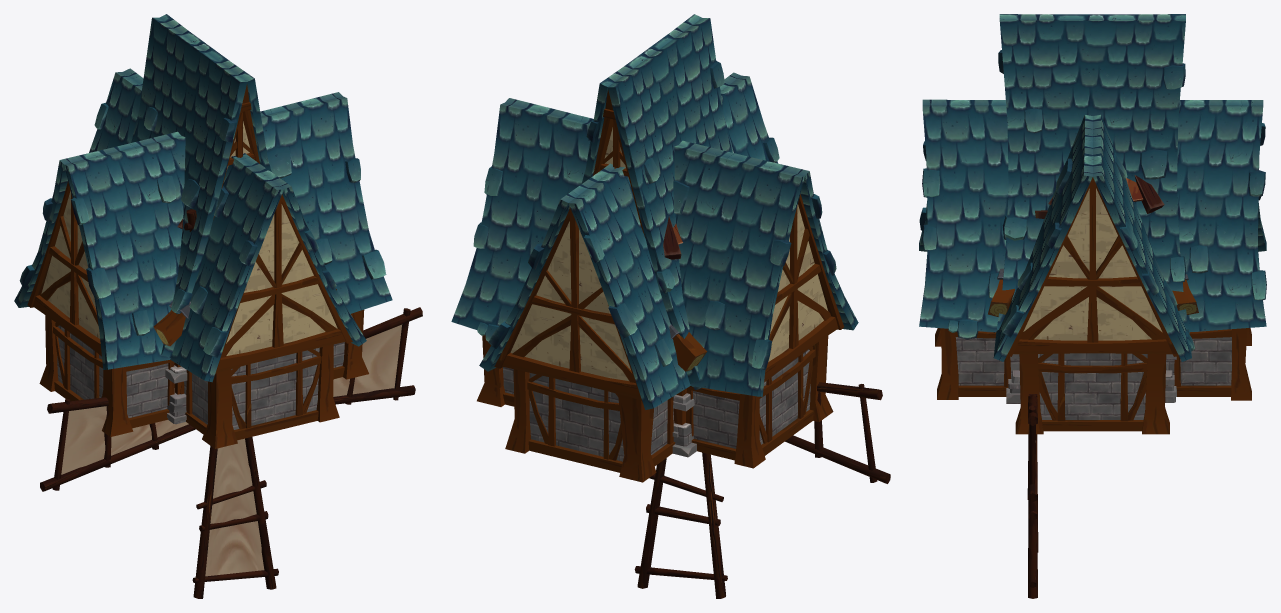
Rendered from nuu_town.glb.
3 renders of one model, left to right at view 1: azimuth 30°, elevation 25°; view 2: azimuth 150°, elevation 25°; view 3: azimuth 270°, elevation 25°, orthographic. The views are drawn at different scales.
Parts seen in each view (by area): view 1: SM_BLD_body_v07_01, SM_BLD_windmill_sail, SM_BLD_body_v06_01, SM_BLD_body_v05_01, SM_BLD_body_v01_01, SM_BLD_body_v04_01, SM_BLD_body_v02_01, SM_BLD_base_v01_01; view 2: SM_BLD_body_v07_01, SM_BLD_body_v05_01, SM_BLD_body_v04_01, SM_BLD_body_v01_01, SM_BLD_windmill_sail, SM_BLD_body_v06_01, SM_BLD_body_v02_01, SM_BLD_base_v01_01, SM_PROP_watchtower_wood_01; view 3: SM_BLD_body_v07_01, SM_BLD_body_v01_01, SM_BLD_body_v05_01, SM_BLD_body_v06_01, SM_BLD_body_v04_01, SM_BLD_windmill_sail, SM_BLD_body_v02_01, SM_PROP_watchtower_wood_01, SM_BLD_base_v01_01.
Part boxes in pixels (left/top/right/bottom): SM_BLD_body_v07_01: left=14, top=72, right=392, bottom=448; SM_BLD_windmill_sail: left=40, top=209, right=422, bottom=598; SM_BLD_body_v06_01: left=184, top=104, right=391, bottom=448; SM_BLD_body_v05_01: left=93, top=68, right=386, bottom=448; SM_BLD_body_v01_01: left=131, top=14, right=271, bottom=394; SM_BLD_body_v04_01: left=94, top=69, right=360, bottom=447; SM_BLD_body_v02_01: left=153, top=289, right=336, bottom=394; SM_BLD_base_v01_01: left=167, top=393, right=186, bottom=424; SM_BLD_body_v07_01: left=451, top=76, right=858, bottom=476; SM_BLD_body_v05_01: left=477, top=72, right=778, bottom=482; SM_BLD_body_v04_01: left=486, top=73, right=775, bottom=478; SM_BLD_body_v01_01: left=581, top=14, right=732, bottom=424; SM_BLD_windmill_sail: left=634, top=382, right=890, bottom=598; SM_BLD_body_v06_01: left=465, top=122, right=779, bottom=406; SM_BLD_body_v02_01: left=669, top=324, right=707, bottom=371; SM_BLD_base_v01_01: left=672, top=423, right=696, bottom=457; SM_PROP_watchtower_wood_01: left=663, top=216, right=682, bottom=259; SM_BLD_body_v07_01: left=919, top=99, right=1266, bottom=434; SM_BLD_body_v01_01: left=997, top=14, right=1188, bottom=330; SM_BLD_body_v05_01: left=919, top=100, right=1266, bottom=433; SM_BLD_body_v06_01: left=920, top=115, right=1194, bottom=434; SM_BLD_body_v04_01: left=919, top=105, right=1266, bottom=400; SM_BLD_windmill_sail: left=1027, top=394, right=1038, bottom=598; SM_BLD_body_v02_01: left=988, top=268, right=1198, bottom=316; SM_PROP_watchtower_wood_01: left=1048, top=175, right=1164, bottom=213; SM_BLD_base_v01_01: left=1006, top=370, right=1176, bottom=403.
Size of what is drawn, in the model's own units: 17.07 by 22.82 by 12.88.
Materials: 33 (31 with a texture image).
